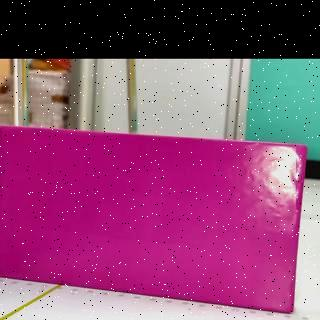xparking: (0, 126, 308, 314)
